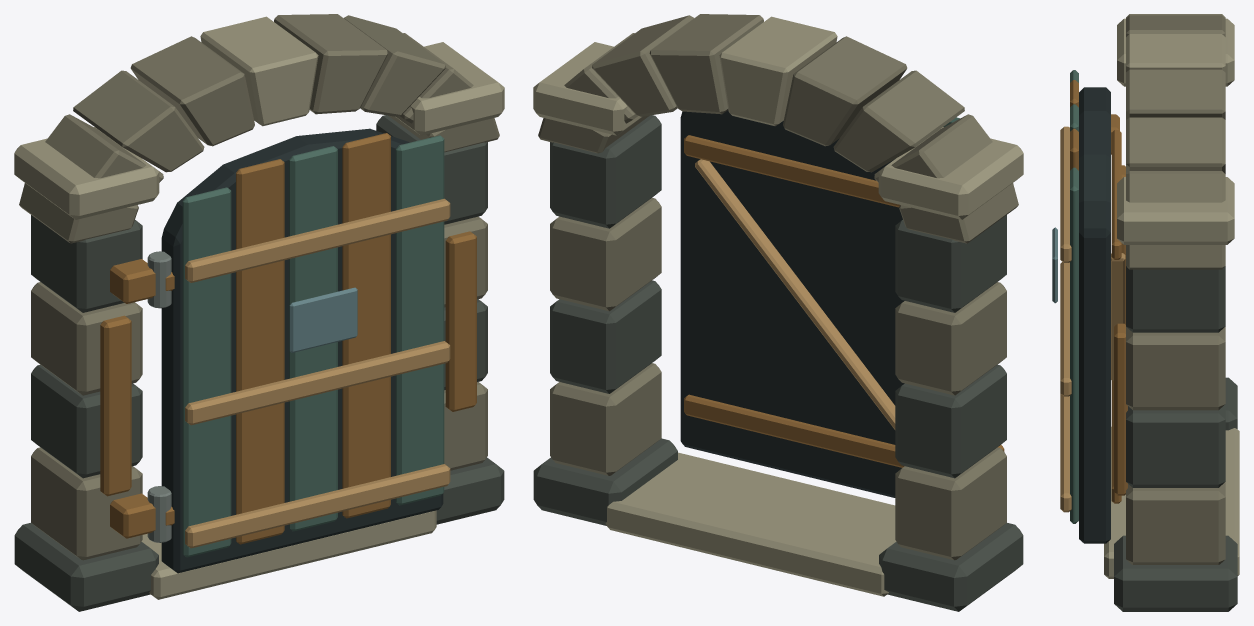
The model's file is LINKED_DOOR.lo.glb.
3 views of the same model, side by side, from view 1: azimuth 30°, elevation 25°; view 2: azimuth 150°, elevation 25°; view 3: azimuth 270°, elevation 25° (orthographic). The views are drawn at different scales.
Parts seen in each view (by area): view 1: Body_Mesh, DoorPivot_Mesh, SignSurface_Mesh; view 2: Body_Mesh, DoorPivot_Mesh; view 3: Body_Mesh, DoorPivot_Mesh, SignSurface_Mesh.
Boxes of the visible parts, <box> form: Body_Mesh: <box>14,14,504,611</box>; DoorPivot_Mesh: <box>161,128,450,573</box>; SignSurface_Mesh: <box>289,287,357,352</box>; Body_Mesh: <box>533,14,1023,611</box>; DoorPivot_Mesh: <box>680,110,959,497</box>; Body_Mesh: <box>1104,14,1239,611</box>; DoorPivot_Mesh: <box>1060,70,1125,543</box>; SignSurface_Mesh: <box>1052,227,1057,303</box>.
Bounding box in the file's own units: 2.37 × 2.59 × 0.939.
